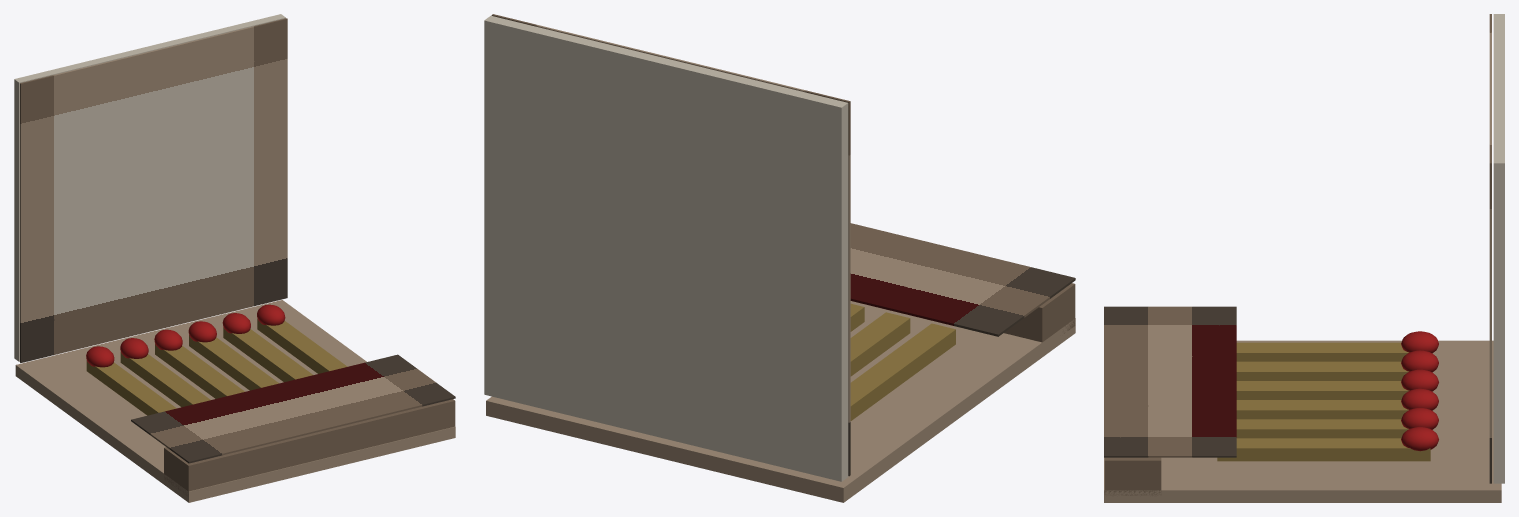
The model's file is CMU3DCMMatchBookPrintedSmallCloudOpenFullStudy.glb.
The picture shows the model from 3 angles, left to right: view 1: azimuth 30°, elevation 25°; view 2: azimuth 150°, elevation 25°; view 3: azimuth 270°, elevation 25°; orthographic projection. The views are drawn at different scales.
Parts seen in each view (by area): view 1: original open inside matchbook cover, original lower striker stripe, paper matchbook backing, lower folded retaining strip, open matchbook cover upright, paper match stem 1, paper match stem 0, paper match stem 5, paper match stem 3, paper match stem 4, paper match stem 2, red match head 3 (+5 smaller); view 2: open matchbook cover upright, paper matchbook backing, original lower striker stripe, paper match stem 0, original open inside matchbook cover, lower folded retaining strip, paper match stem 1; view 3: paper matchbook backing, original lower striker stripe, open matchbook cover upright, paper match stem 5, paper match stem 1, paper match stem 0, paper match stem 3, paper match stem 4, paper match stem 2, lower folded retaining strip, original open inside matchbook cover, red match head 5 (+5 smaller).
Part boxes in pixels (box(x1,y1,x2,y2)): original open inside matchbook cover: box(20, 18, 287, 362); original lower striker stripe: box(131, 354, 455, 463); paper matchbook backing: box(15, 300, 455, 502); lower folded retaining strip: box(164, 399, 455, 495); open matchbook cover upright: box(14, 14, 285, 361); paper match stem 1: box(120, 352, 210, 407); paper match stem 0: box(86, 360, 176, 415); paper match stem 5: box(257, 318, 347, 373); paper match stem 3: box(189, 335, 278, 390); paper match stem 4: box(223, 327, 313, 382); paper match stem 2: box(155, 343, 244, 398); red match head 3: box(188, 321, 216, 342); open matchbook cover upright: box(484, 16, 848, 481); paper matchbook backing: box(486, 301, 1075, 502); original lower striker stripe: box(850, 223, 1075, 336); paper match stem 0: box(850, 323, 955, 420); original open inside matchbook cover: box(491, 14, 850, 476); lower folded retaining strip: box(1004, 283, 1075, 342); paper match stem 1: box(850, 312, 910, 376); paper matchbook backing: box(1104, 340, 1501, 502); original lower striker stripe: box(1104, 306, 1236, 457); open matchbook cover upright: box(1493, 14, 1504, 483); paper match stem 5: box(1217, 438, 1430, 461); paper match stem 1: box(1236, 361, 1408, 380); paper match stem 0: box(1236, 342, 1408, 361); paper match stem 3: box(1236, 400, 1408, 419); paper match stem 4: box(1236, 419, 1408, 438); paper match stem 2: box(1236, 381, 1409, 399); lower folded retaining strip: box(1104, 457, 1161, 495); original open inside matchbook cover: box(1489, 14, 1491, 483); red match head 5: box(1401, 427, 1438, 451).
Size of the model in its own units: 0.25 by 0.265 by 0.2835.
Materials: 7 (2 with a texture image).
